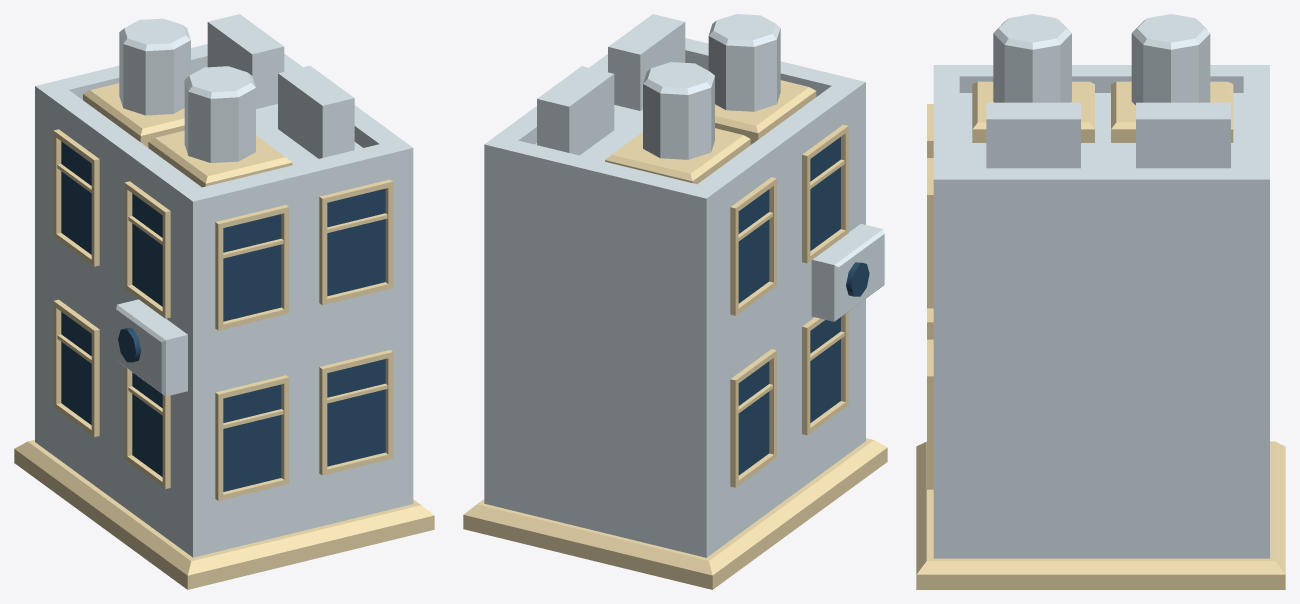
Rendered from Building01.fbx.
The picture shows the model from 3 angles, left to right: view 1: azimuth 30°, elevation 25°; view 2: azimuth 150°, elevation 25°; view 3: azimuth 270°, elevation 25°; orthographic projection. The views are drawn at different scales.
Parts seen in each view (by area): view 1: building01; view 2: building01; view 3: building01.
Boxes of the visible parts, x1,y1,x2,y2 form: building01: [14, 14, 434, 589]; building01: [463, 14, 887, 589]; building01: [916, 14, 1285, 589].
Size of the model in its own units: 54.5 by 62.04 by 88.73.
